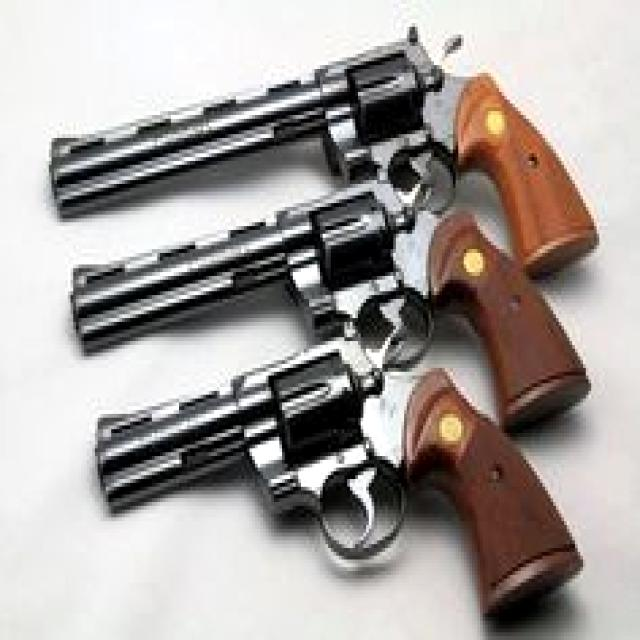revolver: (31, 319, 631, 640)
